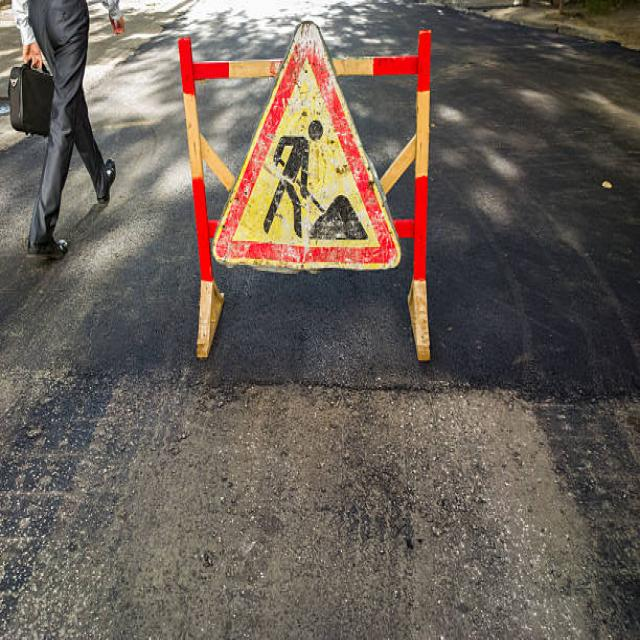road_work: (208, 22, 399, 272)
